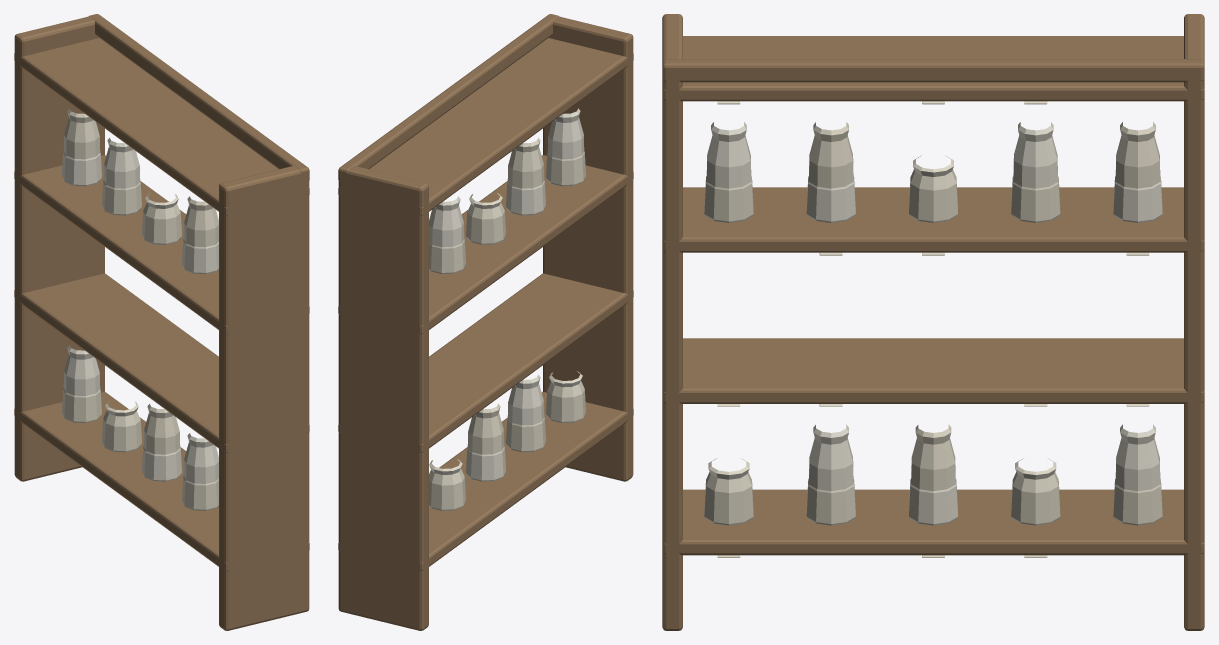
Rendered from apothecary_shelf.glb.
The picture shows the model from 3 angles, left to right: view 1: azimuth 30°, elevation 25°; view 2: azimuth 150°, elevation 25°; view 3: azimuth 270°, elevation 25°; orthographic projection. The views are drawn at different scales.
Parts seen in each view (by area): view 1: 285-apothecary-jar-shelf/0, 285-apothecary-jar-shelf/3, 285-apothecary-jar-shelf/1; view 2: 285-apothecary-jar-shelf/0, 285-apothecary-jar-shelf/3, 285-apothecary-jar-shelf/1; view 3: 285-apothecary-jar-shelf/0, 285-apothecary-jar-shelf/3, 285-apothecary-jar-shelf/1, 285-apothecary-jar-shelf/2.
Part boxes in pixels (<box>): 285-apothecary-jar-shelf/0: <box>14,14,309,630</box>; 285-apothecary-jar-shelf/3: <box>62,108,218,510</box>; 285-apothecary-jar-shelf/1: <box>62,138,218,483</box>; 285-apothecary-jar-shelf/0: <box>338,14,633,630</box>; 285-apothecary-jar-shelf/3: <box>429,138,585,509</box>; 285-apothecary-jar-shelf/1: <box>429,108,585,510</box>; 285-apothecary-jar-shelf/0: <box>662,14,1204,630</box>; 285-apothecary-jar-shelf/3: <box>704,122,1162,525</box>; 285-apothecary-jar-shelf/1: <box>704,122,1162,525</box>; 285-apothecary-jar-shelf/2: <box>717,101,1149,557</box>.
Bounding box in the file's own units: 0.3997 × 2 × 1.73.
